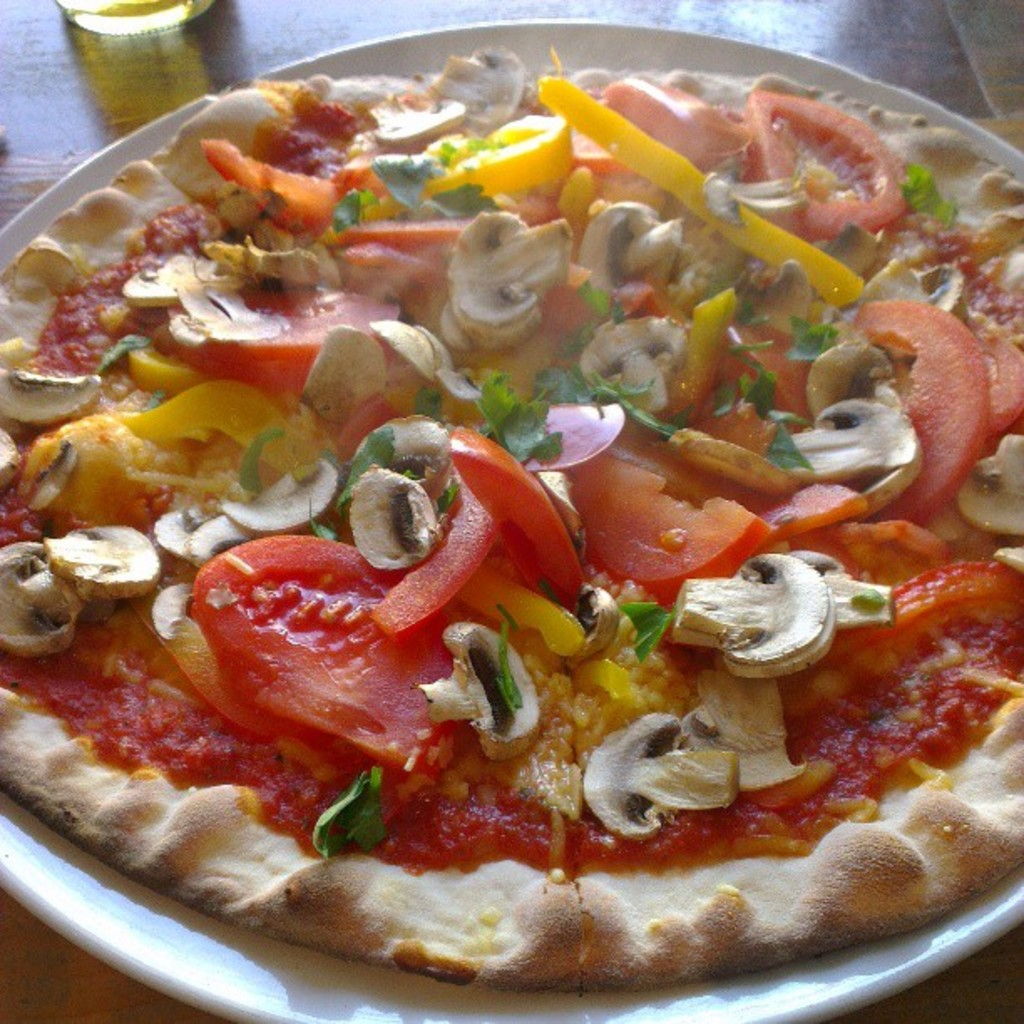Pizza: (0, 58, 1022, 978)
